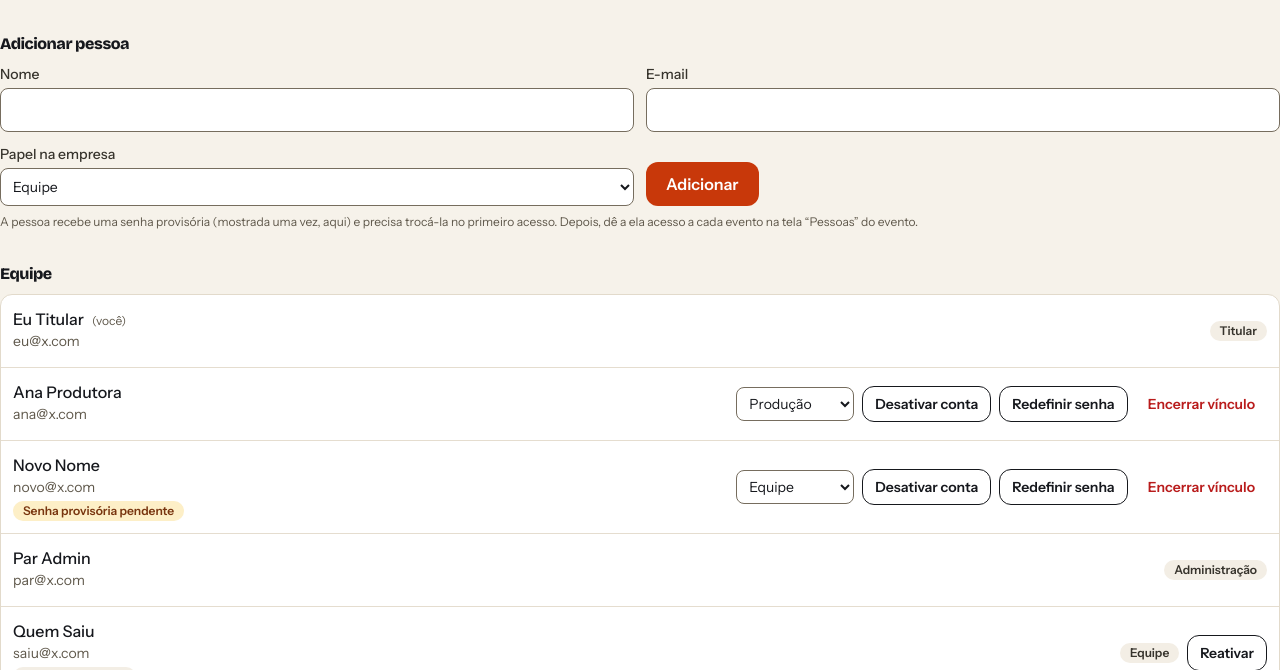
Test: TeamManager › adicionar pessoa › erro do servidor (e-mail já na equipe) aparece como está
Type "Repetida" into the field labelled "Nome".
click(317, 110); type("Repetida")  # box [0,88,634,132]
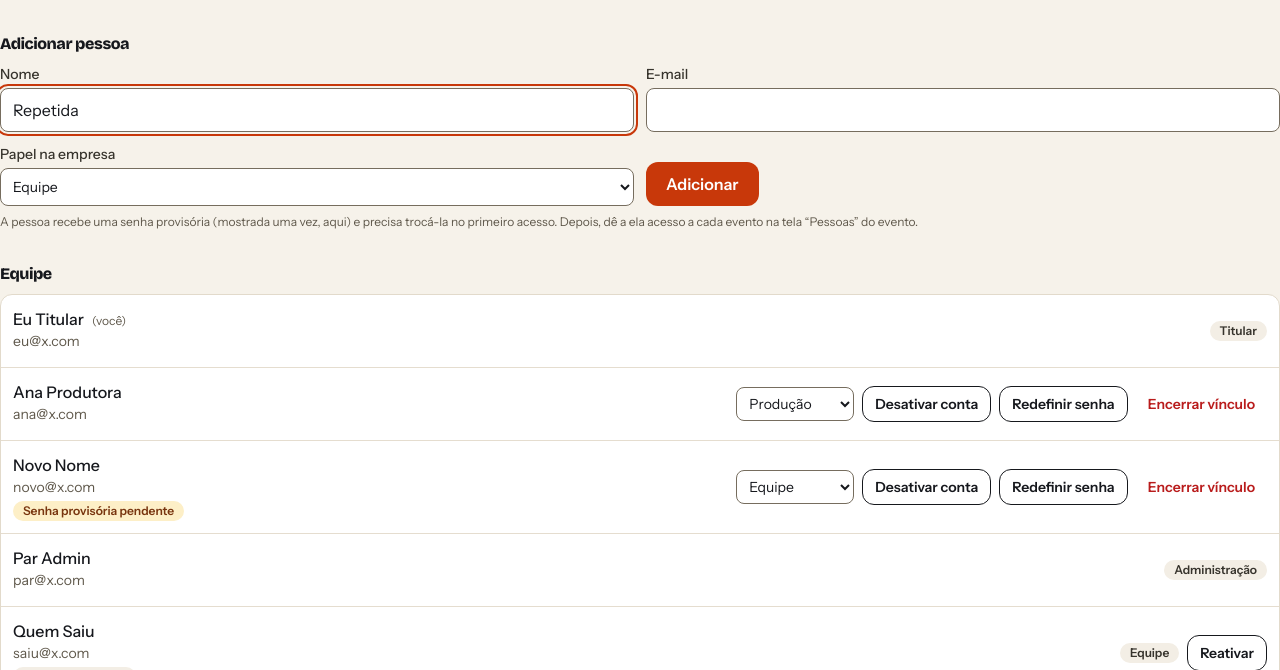
Type "ana@x.com" into the field labelled "E-mail".
click(963, 110); type("ana@x.com")  # box [646,88,1279,132]
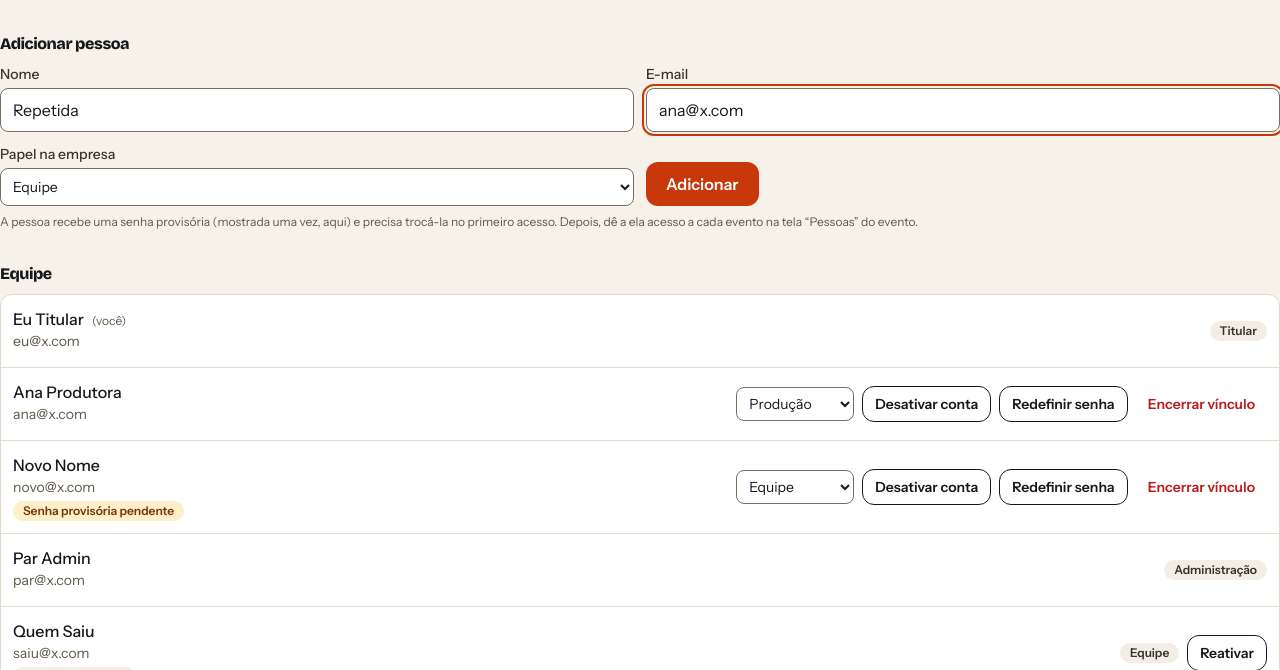
Click the button "Adicionar".
click(702, 184)  # box [646,162,759,206]
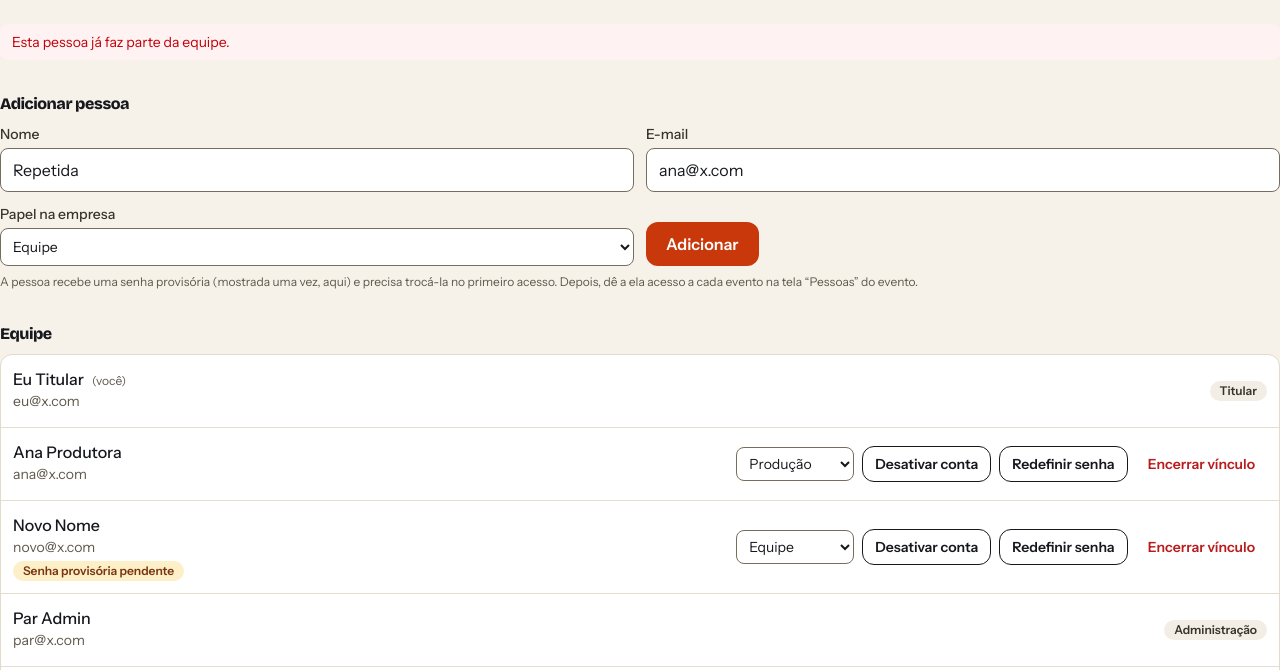
Expected: the message reads "Esta pessoa já faz parte da equipe.", [12,33,230,51]
